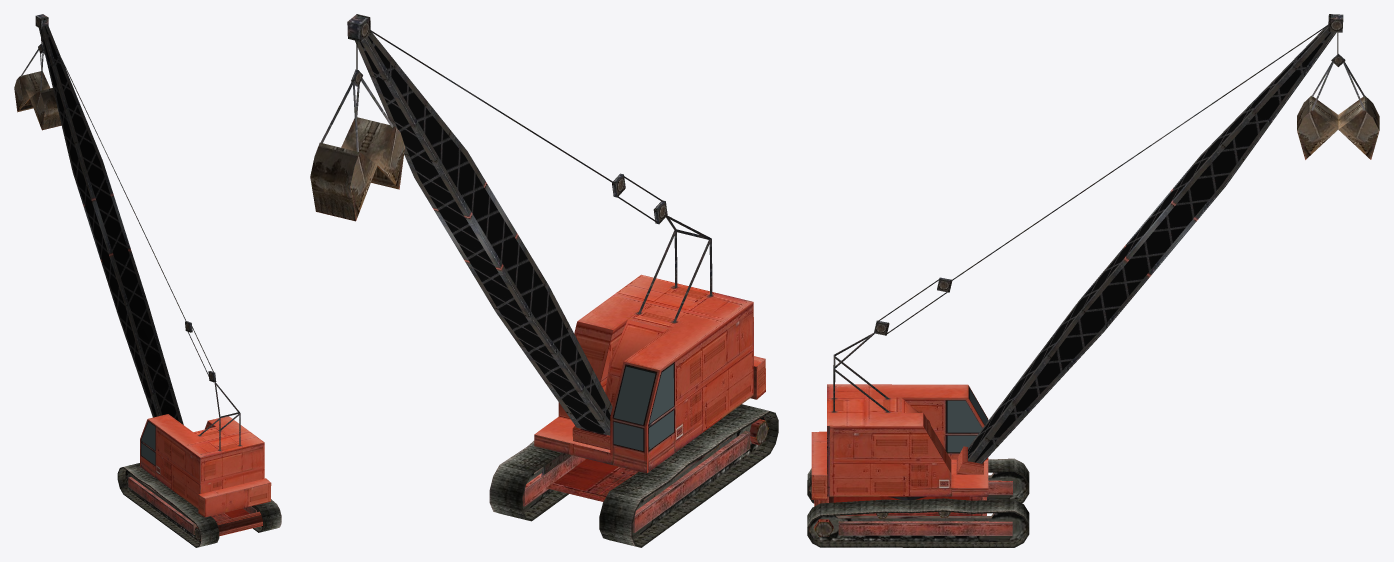
Rendered from p54_40_crane_crawler.glb.
3 renders of one model, left to right at view 1: azimuth 30°, elevation 25°; view 2: azimuth 150°, elevation 25°; view 3: azimuth 270°, elevation 25°, orthographic. The views are drawn at different scales.
Parts seen in each view (by area): view 1: Body_1, Body_2, Glass; view 2: Body_1, Body_2, Glass; view 3: Body_1, Body_2, Glass.
Boxes of the visible parts, box(x1,y1,x2,y2) form: Body_1: box(14, 14, 281, 547); Body_2: box(40, 26, 178, 421); Glass: box(141, 422, 155, 465); Body_1: box(310, 14, 778, 547); Body_2: box(360, 36, 610, 434); Glass: box(613, 364, 673, 450); Body_1: box(807, 14, 1379, 547); Body_2: box(968, 26, 1330, 462); Glass: box(947, 389, 988, 452).
Size of the model in its own units: 3.96 by 17.75 by 18.23.
3 materials, 3 textured.
